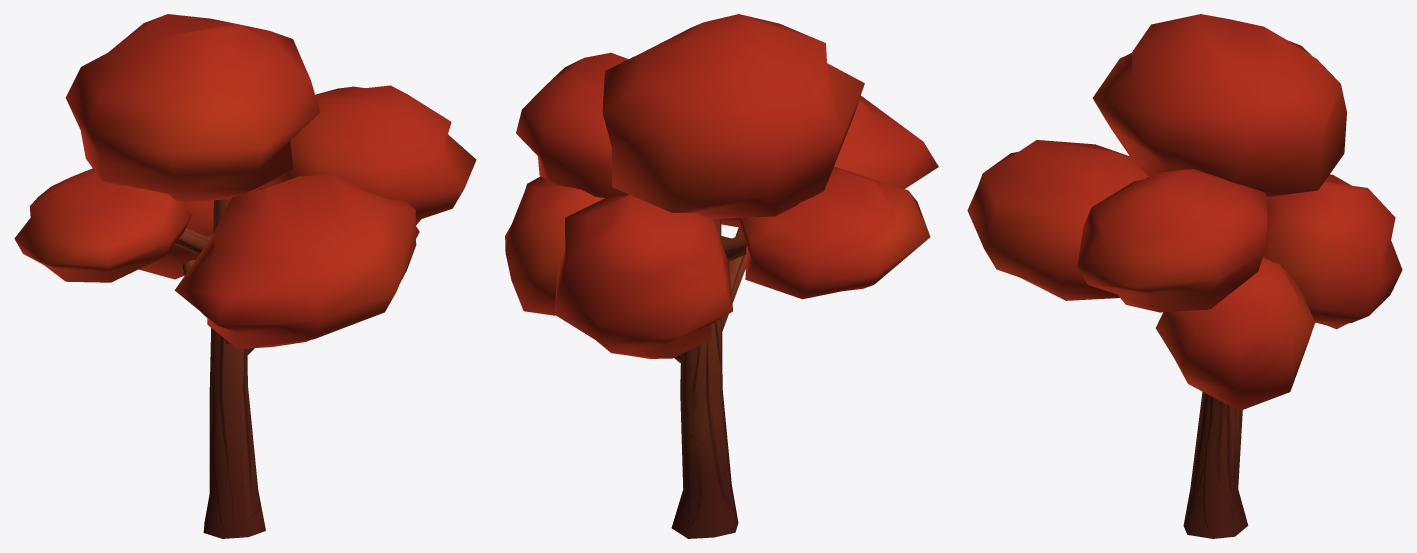
Rendered from TempleMapTree_Red.fbx.
3 renders of one model, left to right at view 1: azimuth 30°, elevation 25°; view 2: azimuth 150°, elevation 25°; view 3: azimuth 270°, elevation 25°, orthographic. The views are drawn at different scales.
Visible parts, largest first — view 1: pCylinder6; view 2: pCylinder6; view 3: pCylinder6.
Boxes of the visible parts, bbox=[...] form: pCylinder6: bbox=[14, 14, 476, 538]; pCylinder6: bbox=[505, 14, 938, 538]; pCylinder6: bbox=[967, 14, 1402, 538].
Size of the model in its own units: 0.1662 by 0.199 by 0.1608.
